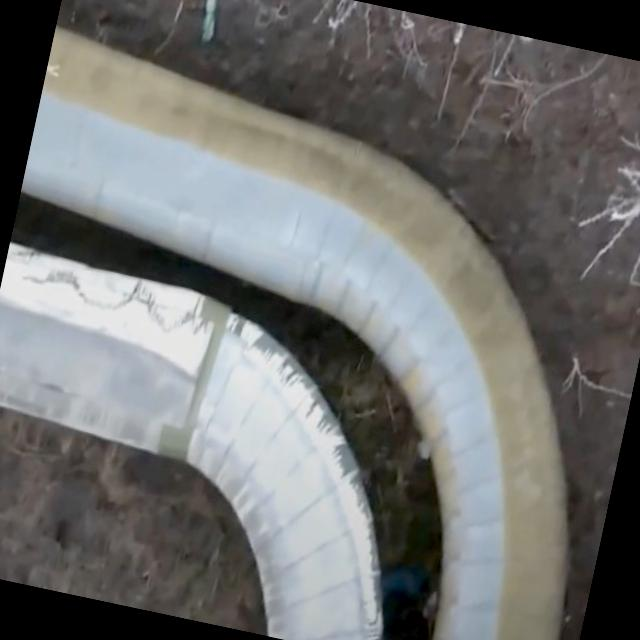gas: (20, 28, 564, 640), (0, 243, 377, 640)
